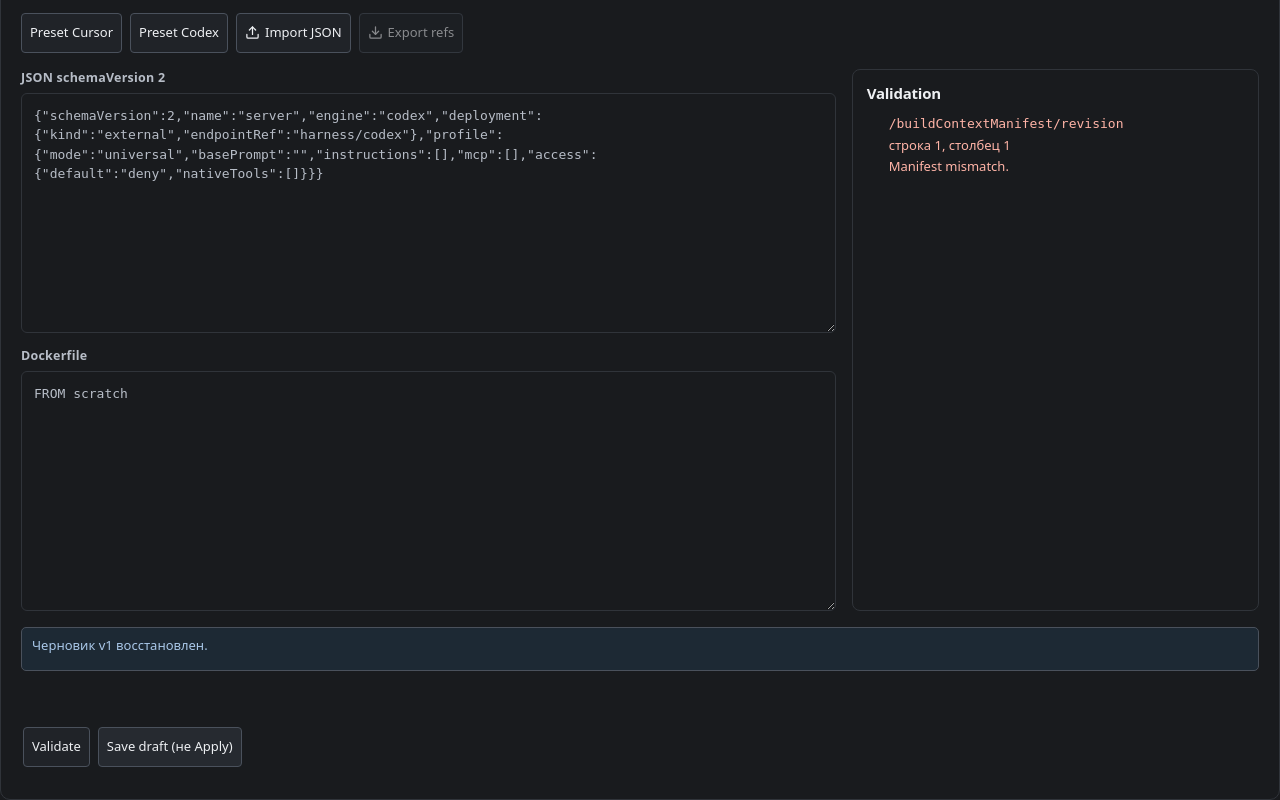
Test: sends semantic build-context mismatch to Save and preserves returned invalid draft
(page scrolled)
Check: the text "Черновик v1 восстановлен." is shown, box [21,627,1259,671]
Click the button "Save draft (не Apply)": (170, 747) [98,727,242,767]
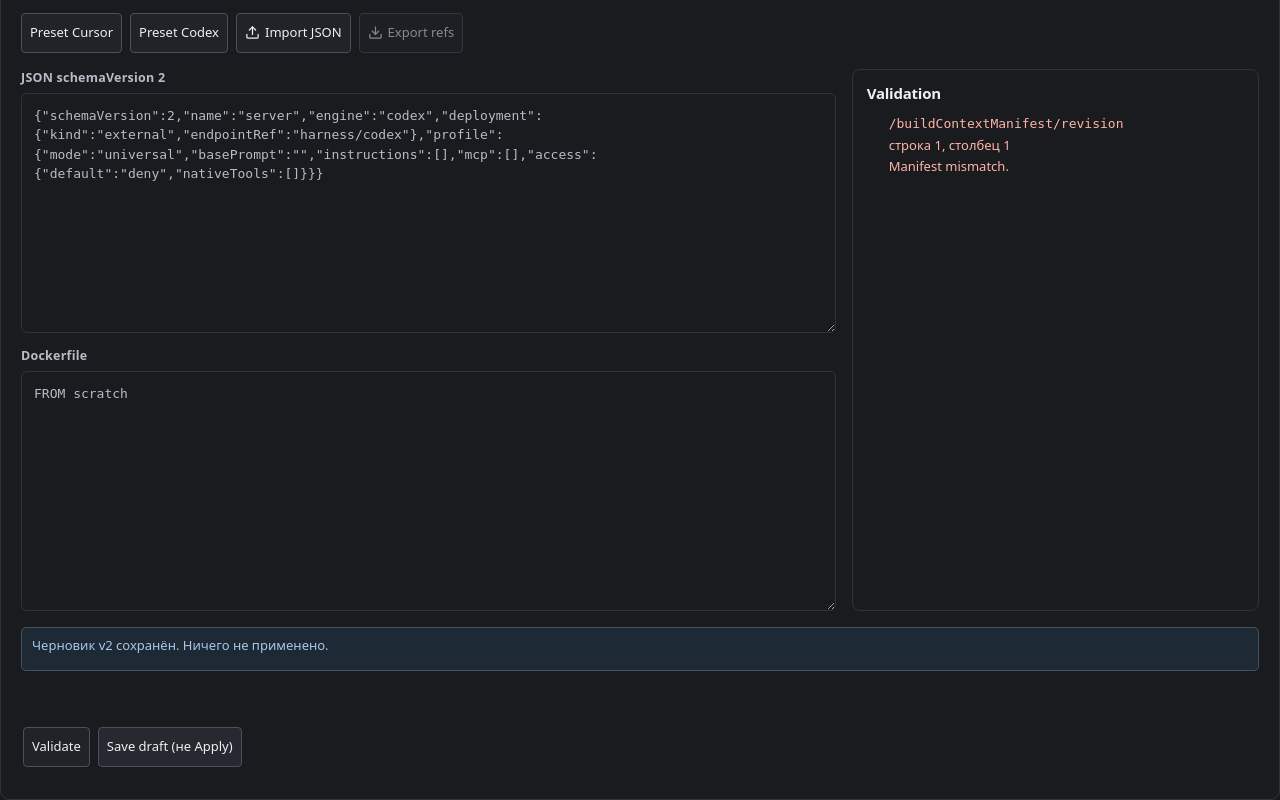
Check: the text "Manifest mismatch." is shown, box [889,157,1009,175]
Check: the text "Черновик v2 сохранён. Ничего не применено." is shown, box [21,627,1259,671]
